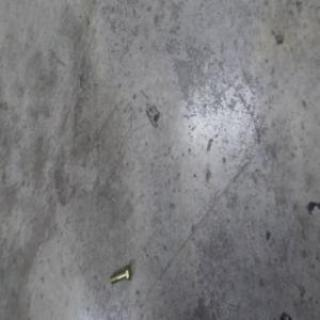Bolttrack_idkeyframe: (108, 261, 131, 282)
